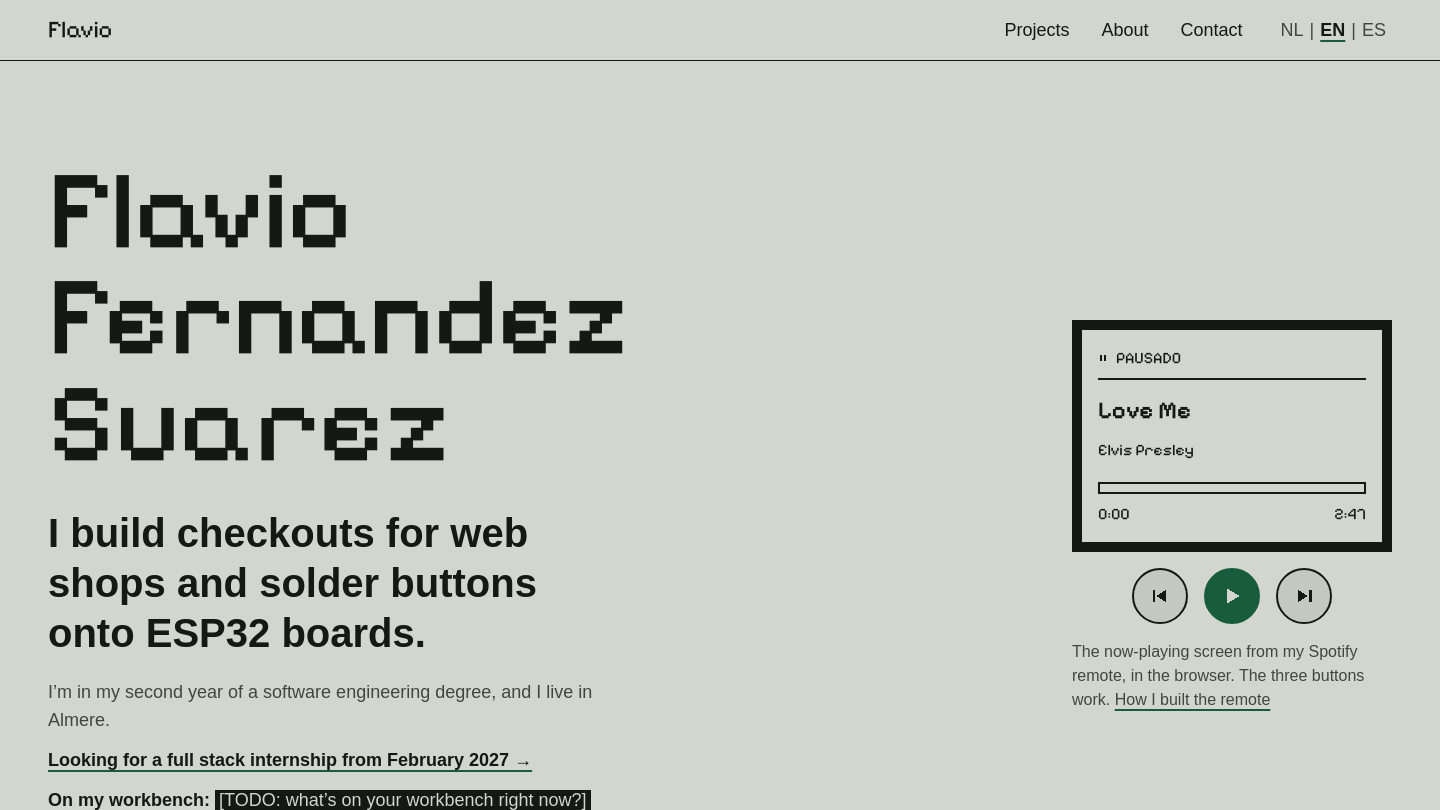
it: switching language keeps the remote screen where it was and updates the page
Click the button named "Next track" at (1304, 596), box [1276, 568, 1332, 624]
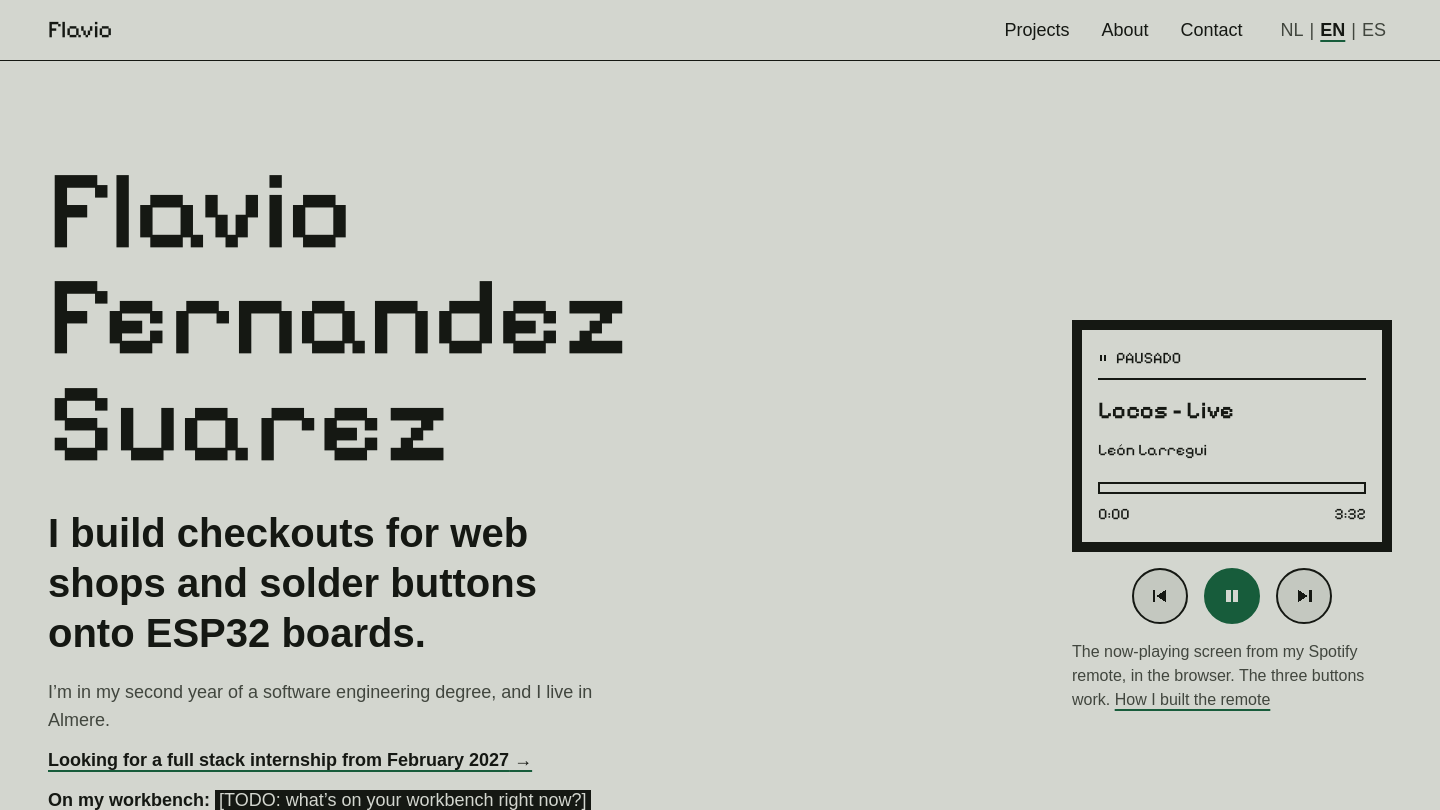
Expected: the text "Locos - Live" is shown, [1098, 396, 1234, 425]
Click the button with aria-label "Nederlands" at (1292, 30), box [1275, 12, 1310, 48]
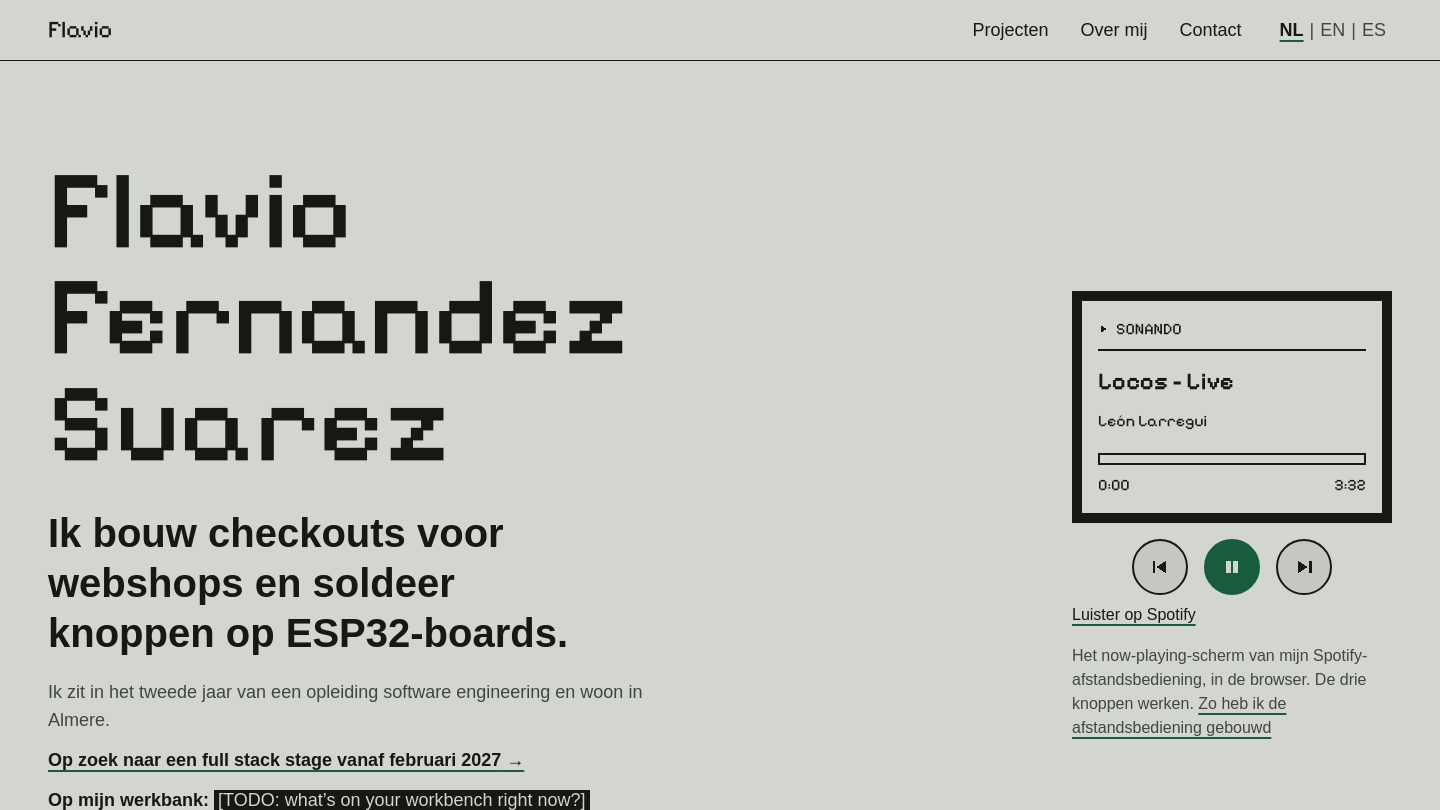
Expected: the text "Locos - Live" is shown, [1098, 367, 1234, 396]
Expected: the button named "Volgend nummer" is shown, [1276, 539, 1332, 595]
Expected: the link "Projecten" is shown, [972, 20, 1048, 40]
